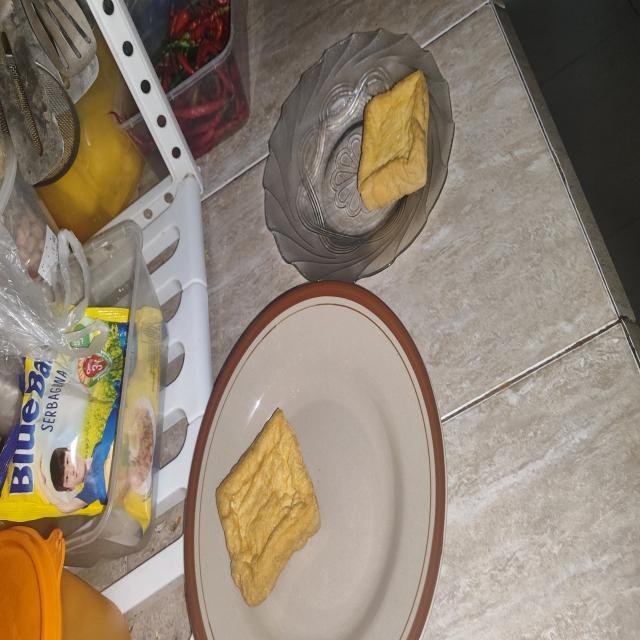tahu_goreng: (216, 408, 320, 606), (358, 70, 430, 210)
